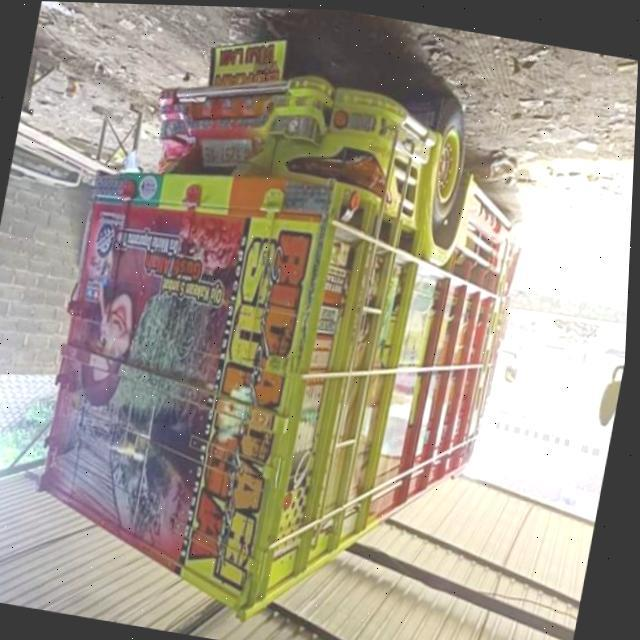truck: (21, 7, 574, 640)
